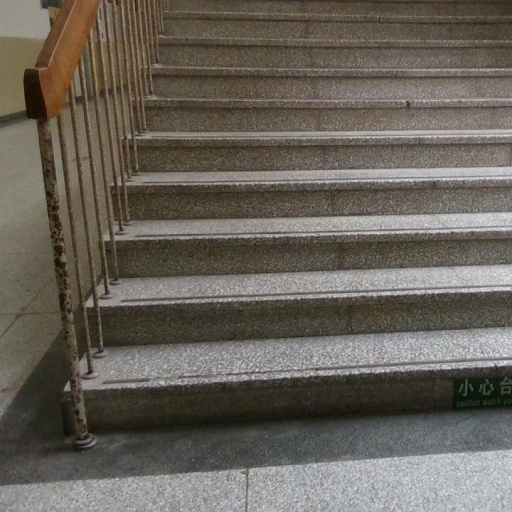Stairs: (84, 0, 512, 428)
